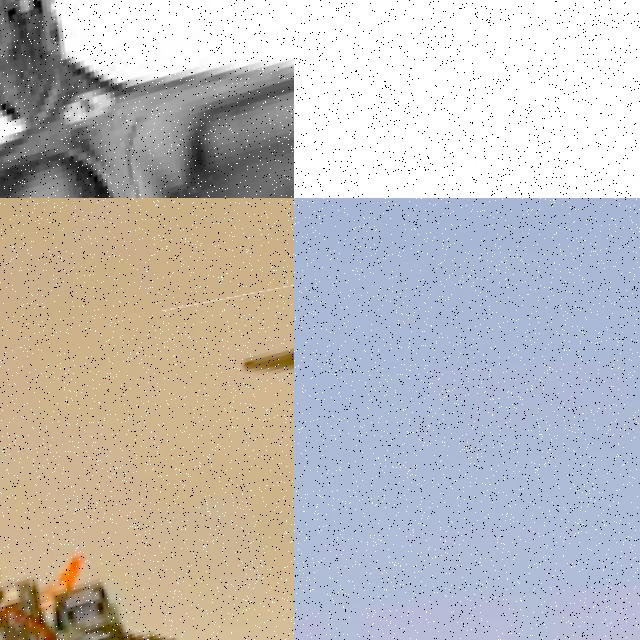drone: (0, 298, 294, 640), (0, 0, 294, 198)
